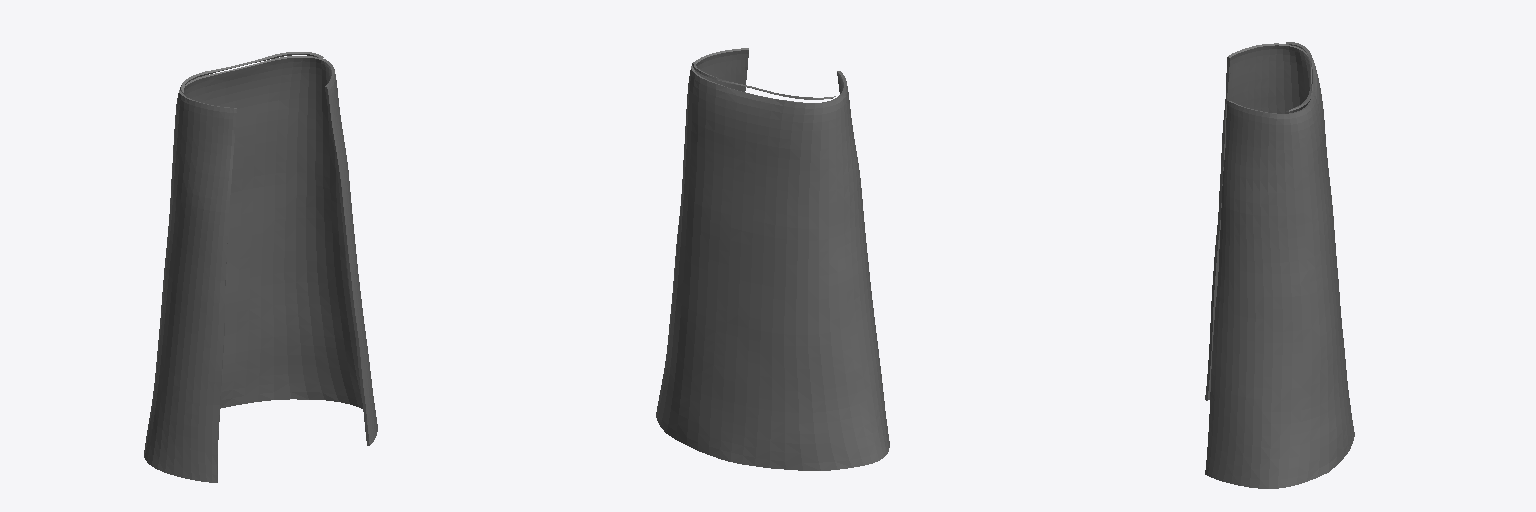
The model's file is LowPoly_Morte_CapaBaixo.obj.
3 views of the same model, side by side, from view 1: azimuth 30°, elevation 25°; view 2: azimuth 150°, elevation 25°; view 3: azimuth 270°, elevation 25° (orthographic).
Parts seen in each view (by area): view 1: LowPoly_Morte_CapaBaixo; view 2: LowPoly_Morte_CapaBaixo; view 3: LowPoly_Morte_CapaBaixo.
Part boxes in pixels (x1,y1,x2,y2): LowPoly_Morte_CapaBaixo: (144, 52, 377, 482); LowPoly_Morte_CapaBaixo: (656, 48, 889, 470); LowPoly_Morte_CapaBaixo: (1205, 42, 1354, 488).
Bounding box in the file's own units: 64.46 × 101 × 38.02.